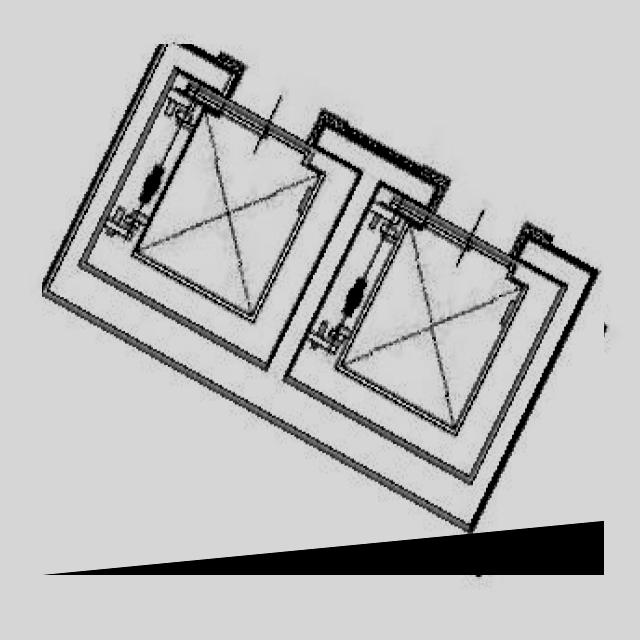lift: (42, 44, 604, 575)
